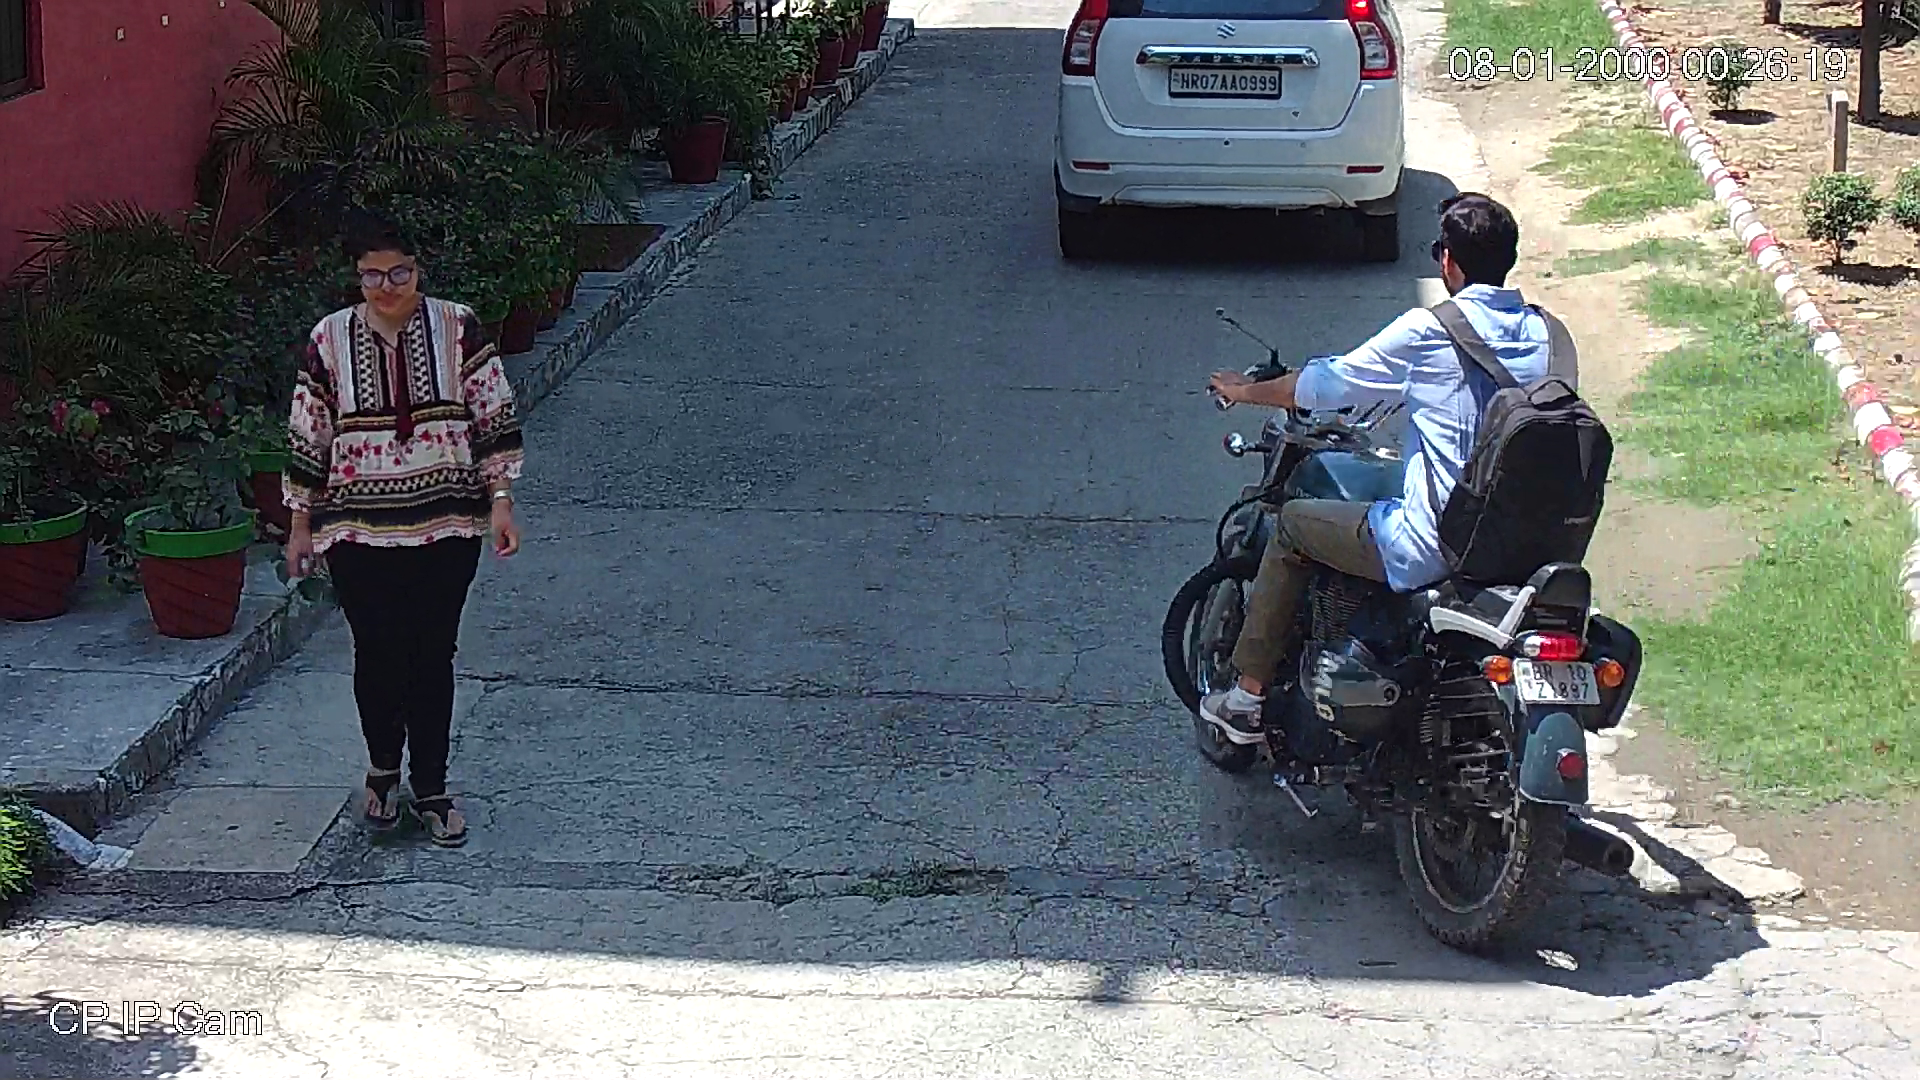plate: (1161, 64, 1294, 100)
